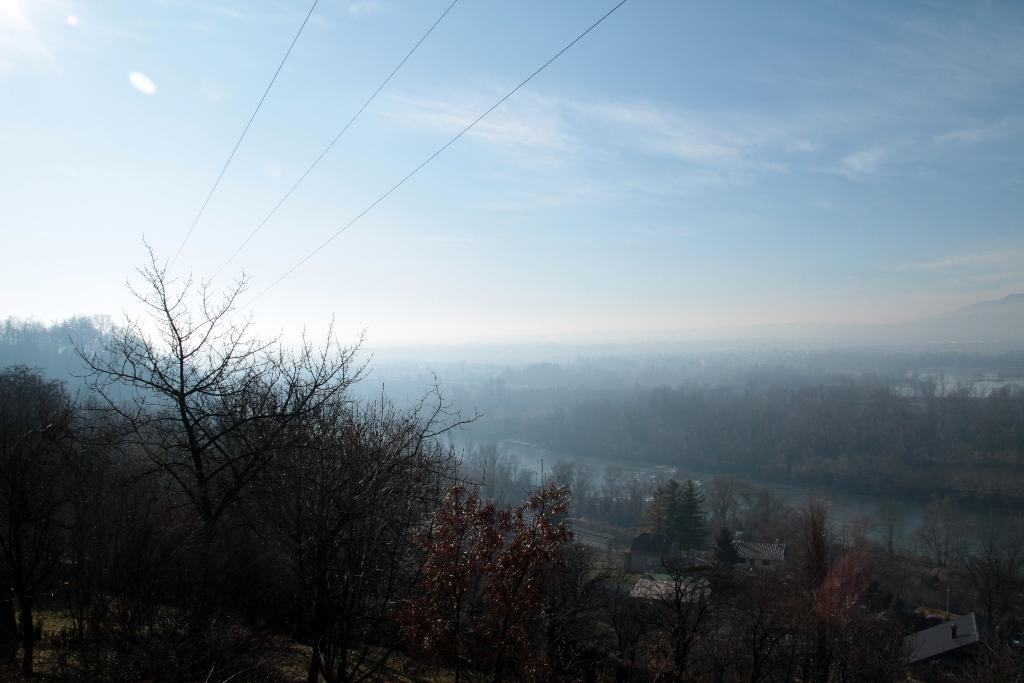Tree: (0, 231, 1023, 682)
